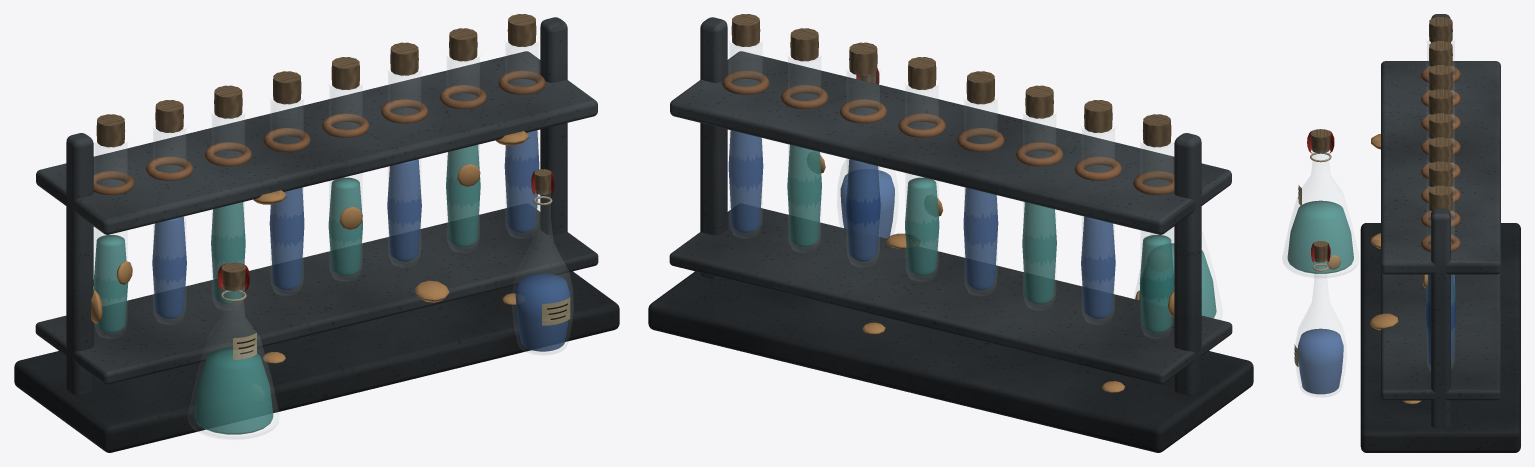
The picture shows the model from 3 angles, left to right: view 1: azimuth 30°, elevation 25°; view 2: azimuth 150°, elevation 25°; view 3: azimuth 270°, elevation 25°; orthographic projection. The views are drawn at different scales.
Parts seen in each view (by area): view 1: forged iron, blown glass, blackened strap iron, tincture fluid, second tincture fluid, sawn end-grain timber, aged brass fittings, peened pin (×2), parchment; view 2: forged iron, blackened strap iron, blown glass, second tincture fluid, tincture fluid, sawn end-grain timber, aged brass fittings; view 3: forged iron, blackened strap iron, blown glass, sawn end-grain timber, tincture fluid, second tincture fluid, aged brass fittings, peened pin, sealing wax.
Boxes of the visible parts, box(x1,y1,x2,y2) form: forged iron: box(35, 17, 598, 395); blown glass: box(94, 43, 573, 439); blackened strap iron: box(14, 271, 619, 452); tincture fluid: box(93, 144, 480, 434); second tincture fluid: box(152, 130, 570, 351); sawn end-grain timber: box(96, 14, 551, 291); aged brass fittings: box(93, 70, 545, 194); peened pin (×2): box(91, 131, 529, 323); parchment: box(233, 297, 570, 359); forged iron: box(669, 17, 1232, 395); blackened strap iron: box(648, 271, 1253, 452); blown glass: box(729, 43, 1222, 338); second tincture fluid: box(728, 130, 1115, 319); tincture fluid: box(787, 144, 1216, 333); sawn end-grain timber: box(731, 14, 1171, 147); aged brass fittings: box(722, 70, 1174, 194); forged iron: box(1381, 14, 1500, 427); blackened strap iron: box(1360, 223, 1520, 452); blown glass: box(1282, 41, 1454, 397); sawn end-grain timber: box(1310, 17, 1452, 262); tincture fluid: box(1287, 200, 1455, 302); second tincture fluid: box(1298, 274, 1455, 394); aged brass fittings: box(1421, 66, 1460, 252); peened pin: box(1370, 134, 1398, 330); sealing wax: box(1307, 129, 1334, 262).
Size of the model in its own units: 0.5 by 0.268 by 0.2387.
Materials: 12 (7 with a texture image).
